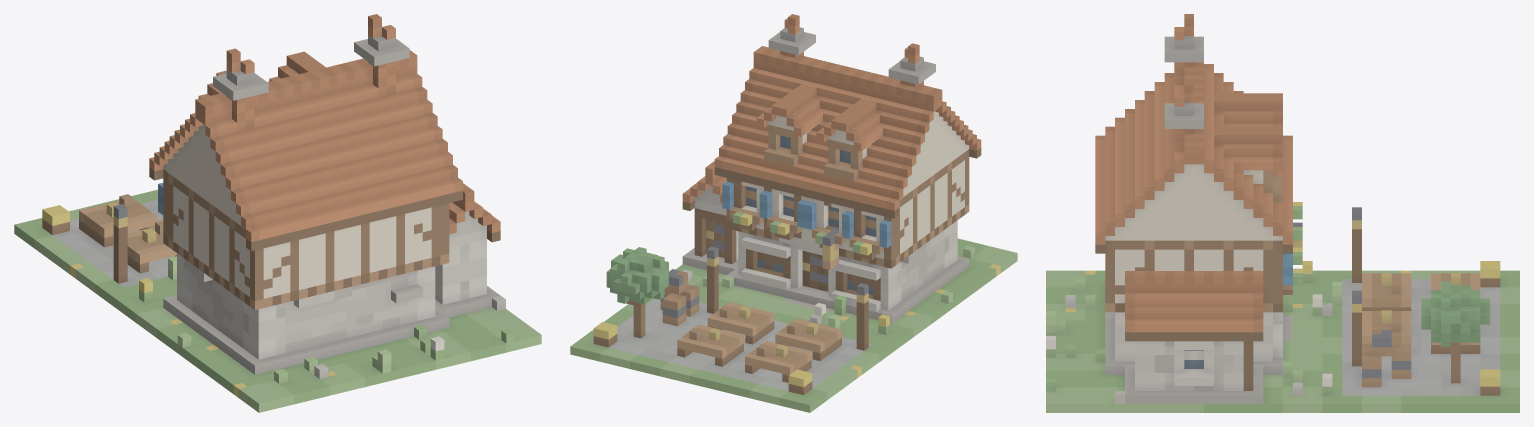
Rendered from tavern.glb.
3 views of the same model, side by side, from view 1: azimuth 30°, elevation 25°; view 2: azimuth 150°, elevation 25°; view 3: azimuth 270°, elevation 25° (orthographic). The views are drawn at different scales.
Visible parts, largest first — view 1: tavern; view 2: tavern; view 3: tavern.
Part boxes in pixels (x1,y1,x2,y2): tavern: (14,14,541,412); tavern: (570,14,1017,412); tavern: (1046,14,1519,412).
Bounding box in the file's own units: 4 × 4 × 6.
